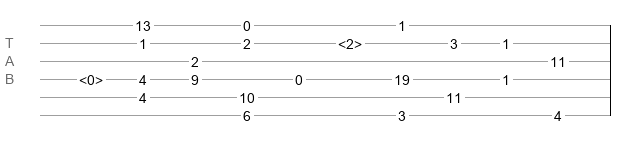0: (243, 18, 251, 28), (295, 72, 303, 82)
1: (139, 36, 147, 46), (398, 18, 406, 28), (502, 72, 510, 82), (502, 36, 510, 46)
10: (239, 90, 255, 100)
11: (446, 90, 462, 100), (550, 54, 566, 64)
13: (135, 18, 151, 28)
19: (394, 72, 410, 82)
2: (191, 54, 199, 64), (243, 36, 251, 46)
3: (398, 108, 406, 118), (450, 36, 458, 46)
4: (139, 90, 147, 100), (139, 72, 147, 82), (554, 108, 562, 118)
6: (243, 108, 251, 118)
9: (191, 72, 199, 82)
harmonic: (79, 72, 103, 82), (338, 36, 362, 46)
